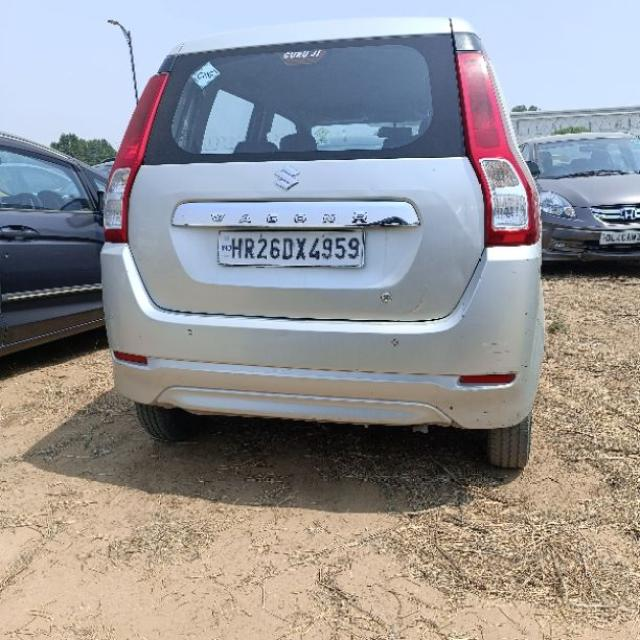license_plate: (215, 228, 366, 268), (598, 228, 639, 246)
